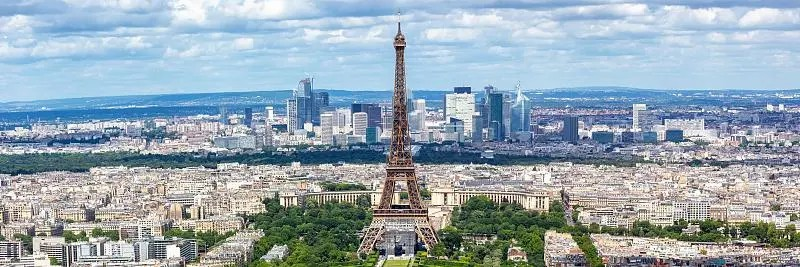Eiffel: (356, 9, 439, 256)
